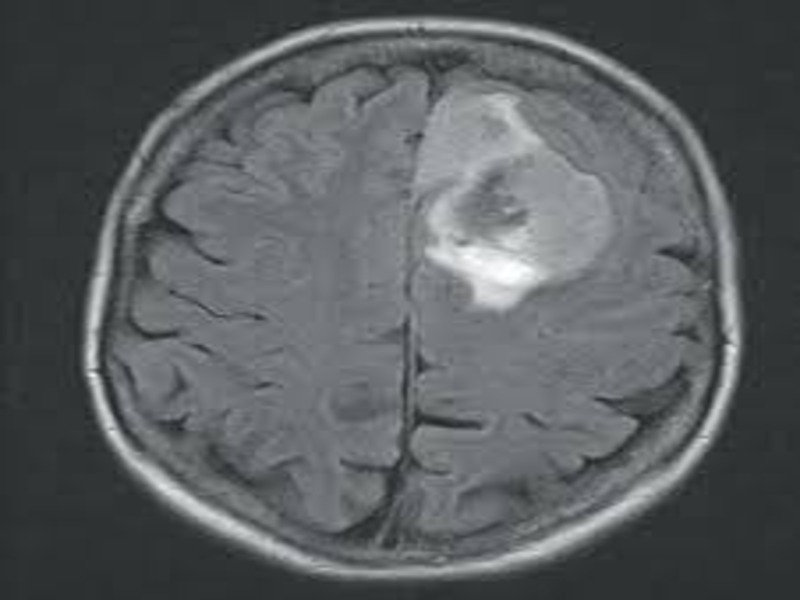tumor: (419, 222, 557, 332)
